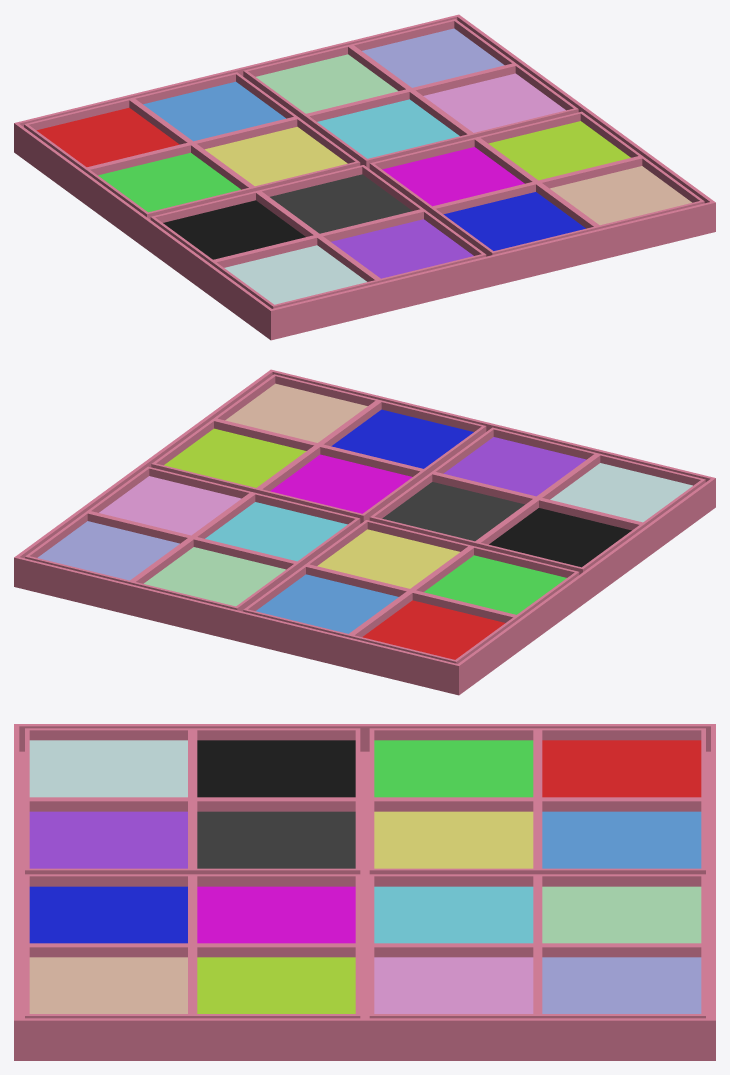
The model's file is color.fbx.
3 renders of one model, top to bottom at view 1: azimuth 30°, elevation 25°; view 2: azimuth 150°, elevation 25°; view 3: azimuth 270°, elevation 25°, orthographic. The views are drawn at different scales.
Visible parts, largest first — view 1: color; view 2: color; view 3: color.
Part boxes in pixels (x1,y1,x2,y2): color: (14, 14, 715, 340); color: (14, 369, 715, 695); color: (14, 724, 715, 1060).
Size of the model in its own units: 2.77 by 0.1746 by 2.77.
